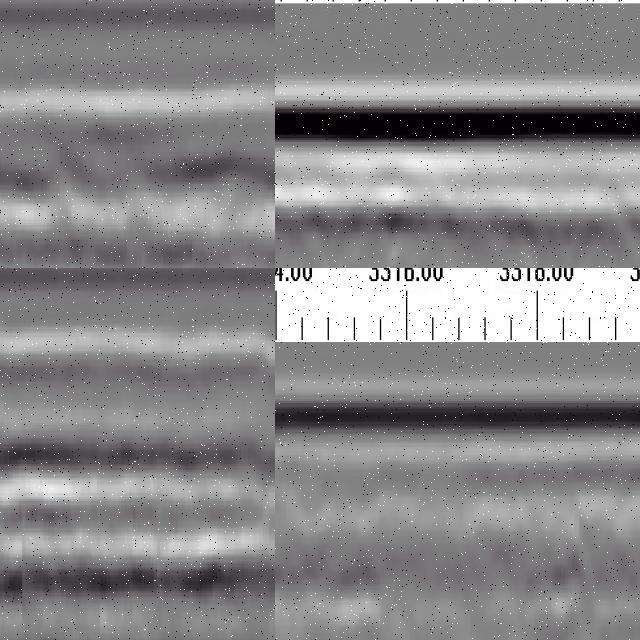loose: (276, 512, 383, 640)
